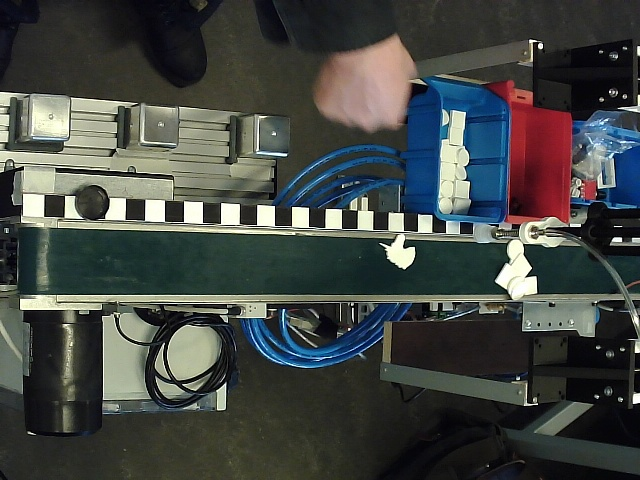unicorn: (379, 234, 417, 272)
